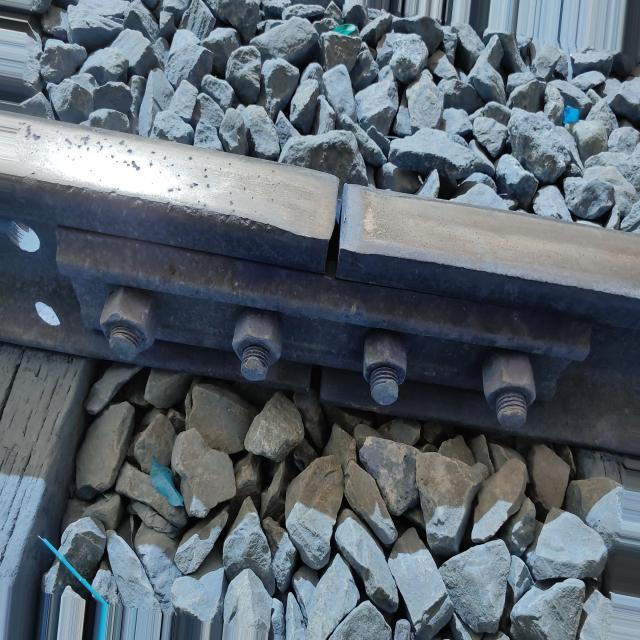squats_high: (24, 121, 142, 179), (147, 145, 239, 209)
